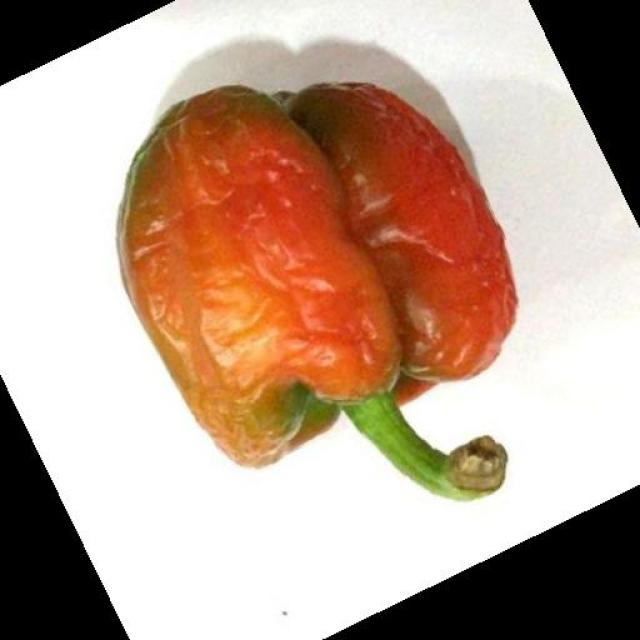Stale_Capsicum: (123, 86, 529, 508)
